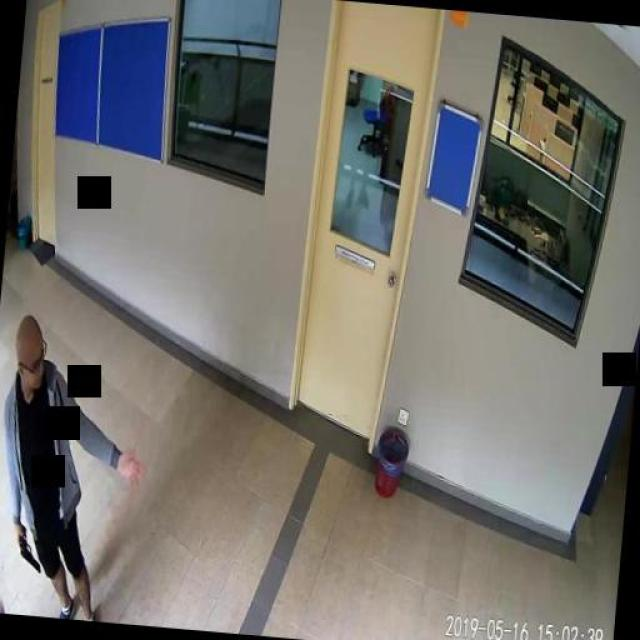gun: (13, 522, 42, 572)
